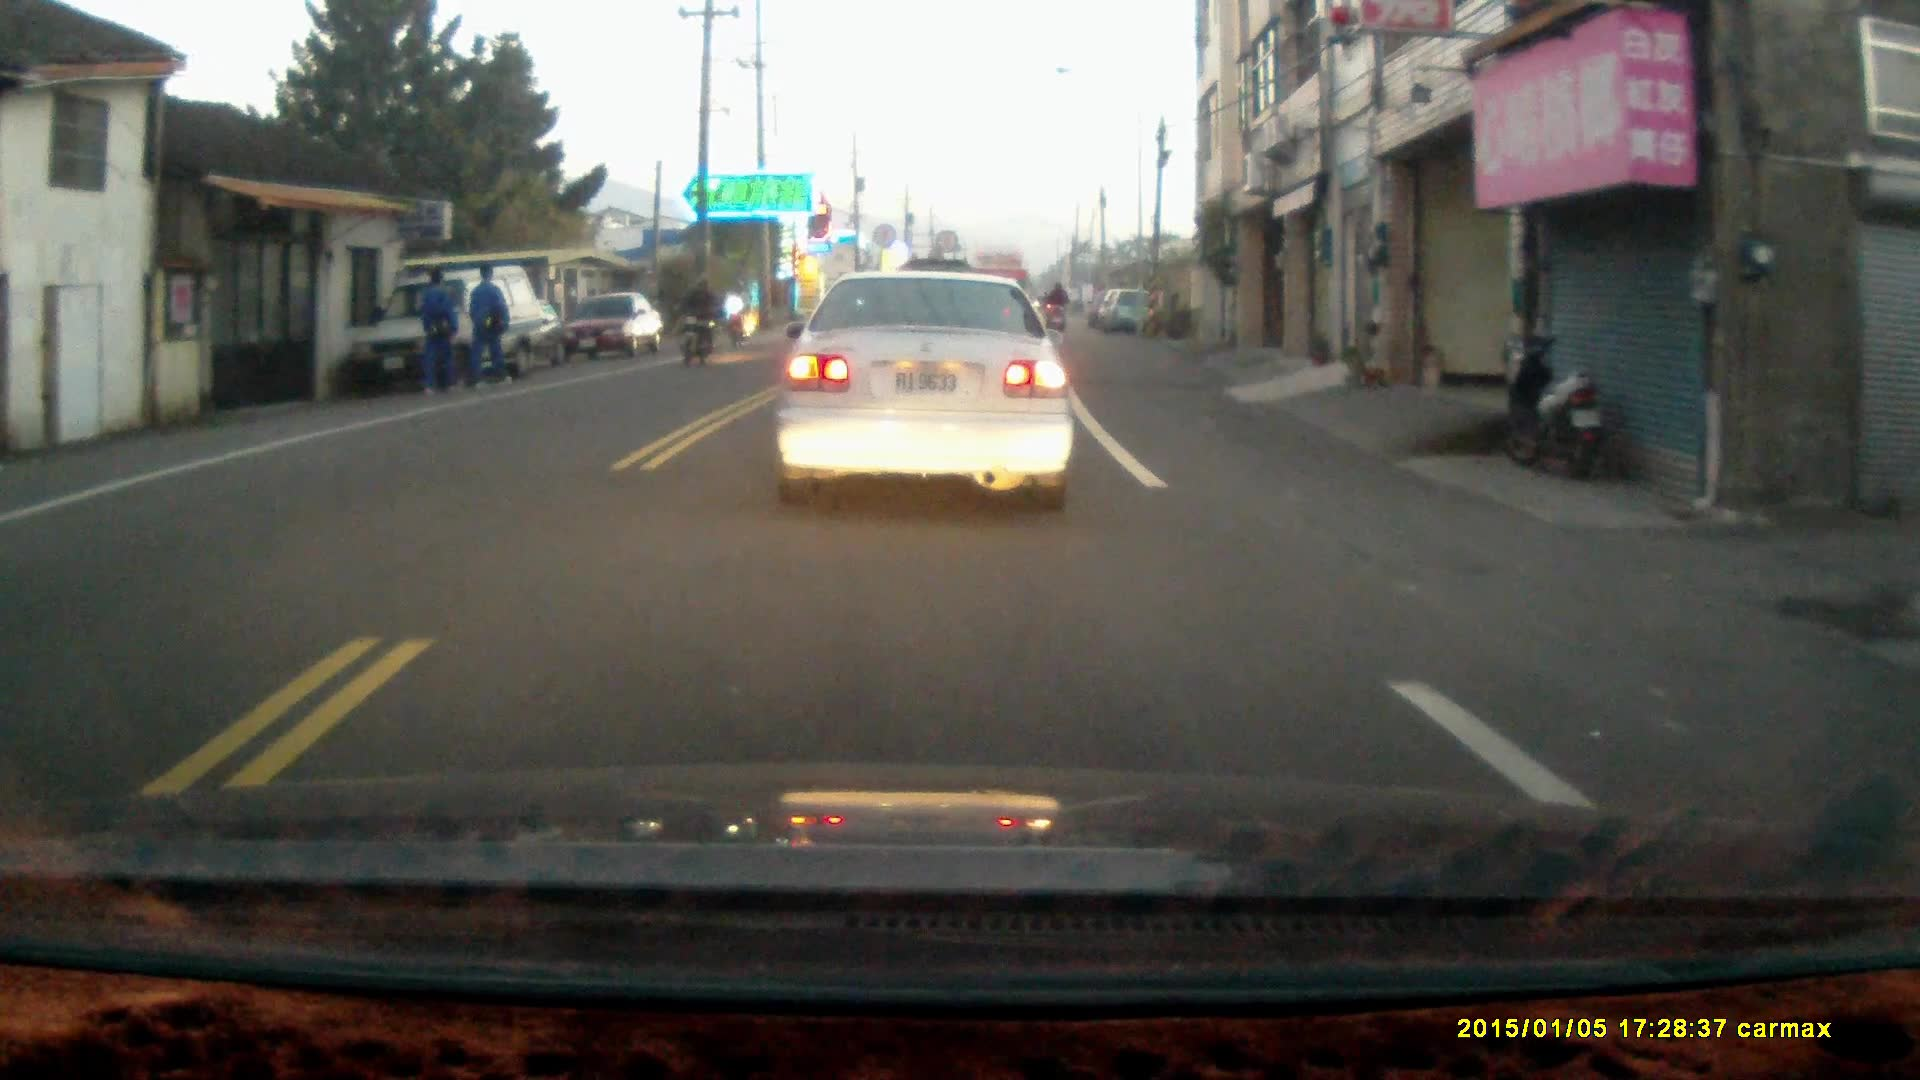pedestrian: (462, 258, 509, 391), (414, 263, 460, 395)
rider: (675, 279, 722, 368), (721, 282, 750, 350)
vehicle: (773, 269, 1076, 514), (357, 268, 559, 394), (554, 292, 664, 364)
